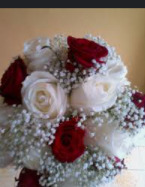RedRose: (62, 32, 108, 73), (50, 116, 90, 159), (0, 57, 32, 107)
